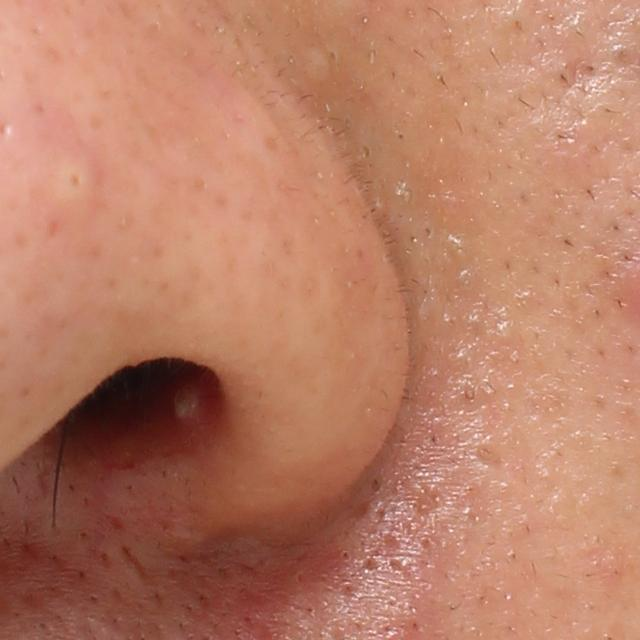atrophic_scar: (531, 62, 596, 120), (124, 545, 151, 583)
